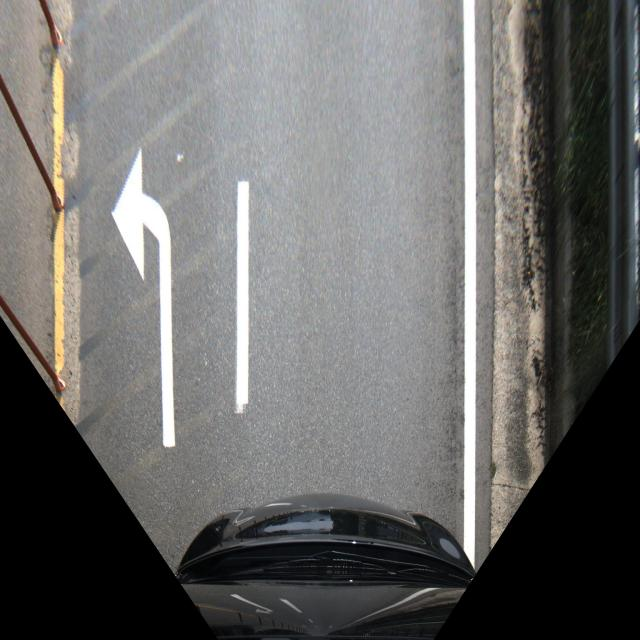left: (52, 135, 253, 449)
